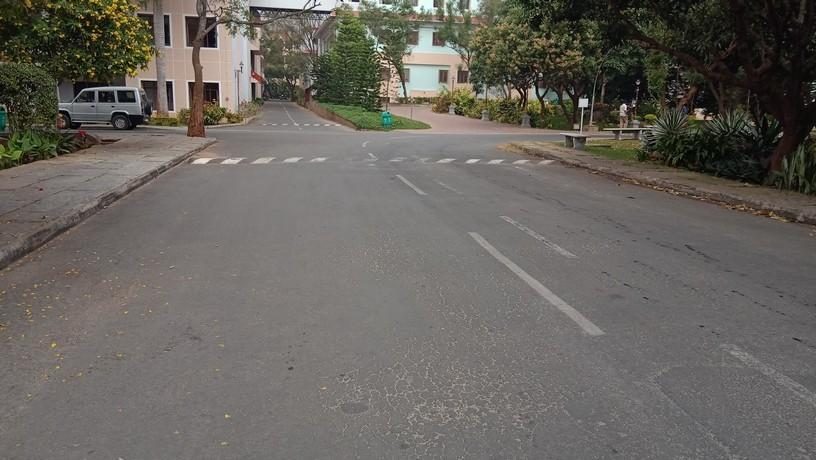speedbreaker: (190, 154, 559, 168)
